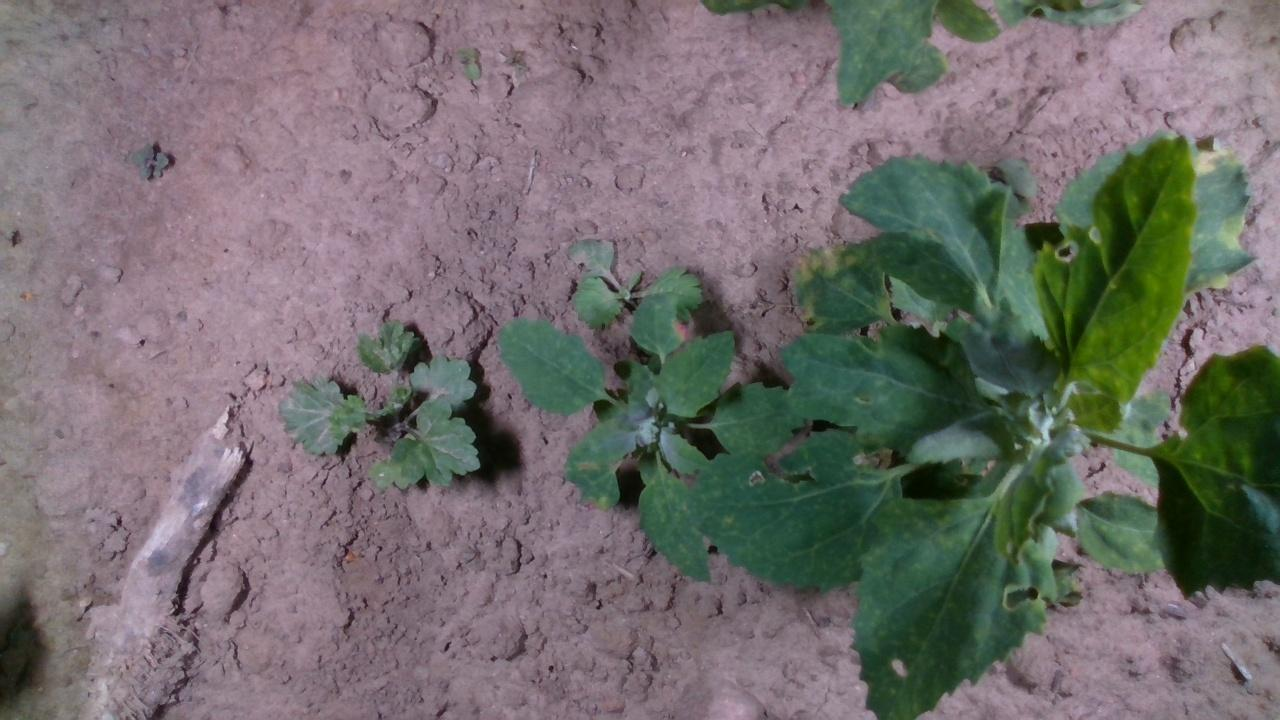weed: (127, 138, 173, 187), (455, 37, 483, 84)
